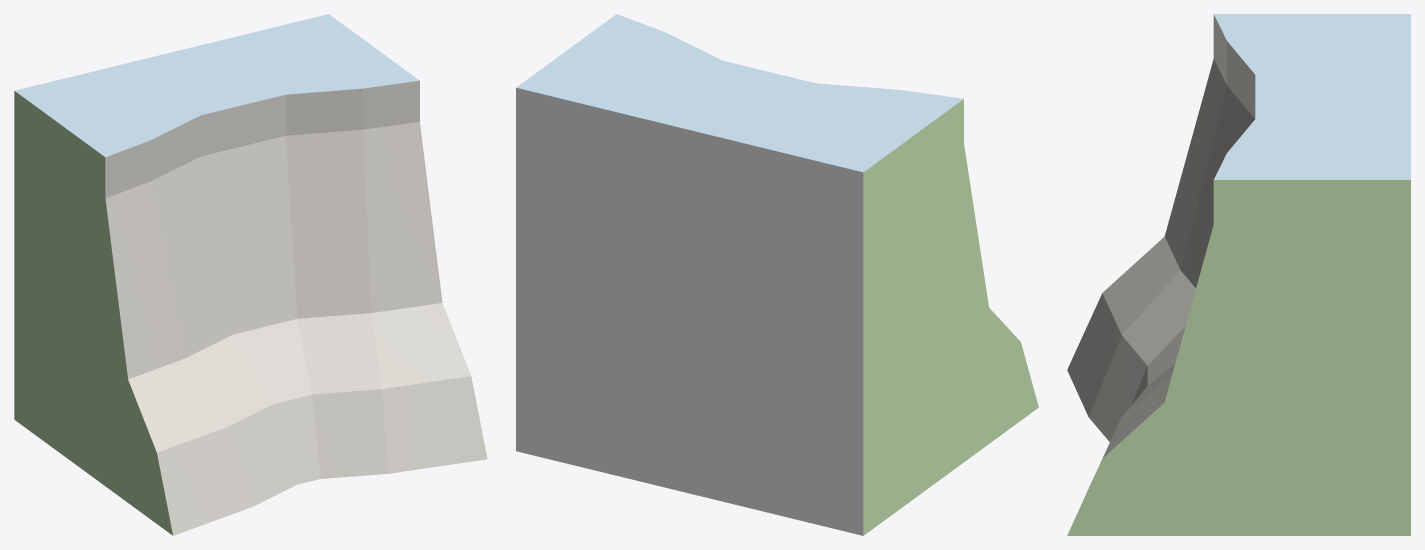
The model's file is Wall_Straight_Deformed_Concave_2x2_Base.fbx.
The picture shows the model from 3 angles, left to right: view 1: azimuth 30°, elevation 25°; view 2: azimuth 150°, elevation 25°; view 3: azimuth 270°, elevation 25°; orthographic projection. The views are drawn at different scales.
Visible parts, largest first — view 1: Wall_Straight_Deformed_Concave_2x2_Base; view 2: Wall_Straight_Deformed_Concave_2x2_Base; view 3: Wall_Straight_Deformed_Concave_2x2_Base.
Boxes of the visible parts, box(x1,y1,x2,y2) form: Wall_Straight_Deformed_Concave_2x2_Base: box(14, 14, 487, 535); Wall_Straight_Deformed_Concave_2x2_Base: box(516, 14, 1038, 535); Wall_Straight_Deformed_Concave_2x2_Base: box(1067, 14, 1410, 535).
Bounding box in the file's own units: 200 × 200 × 175.
